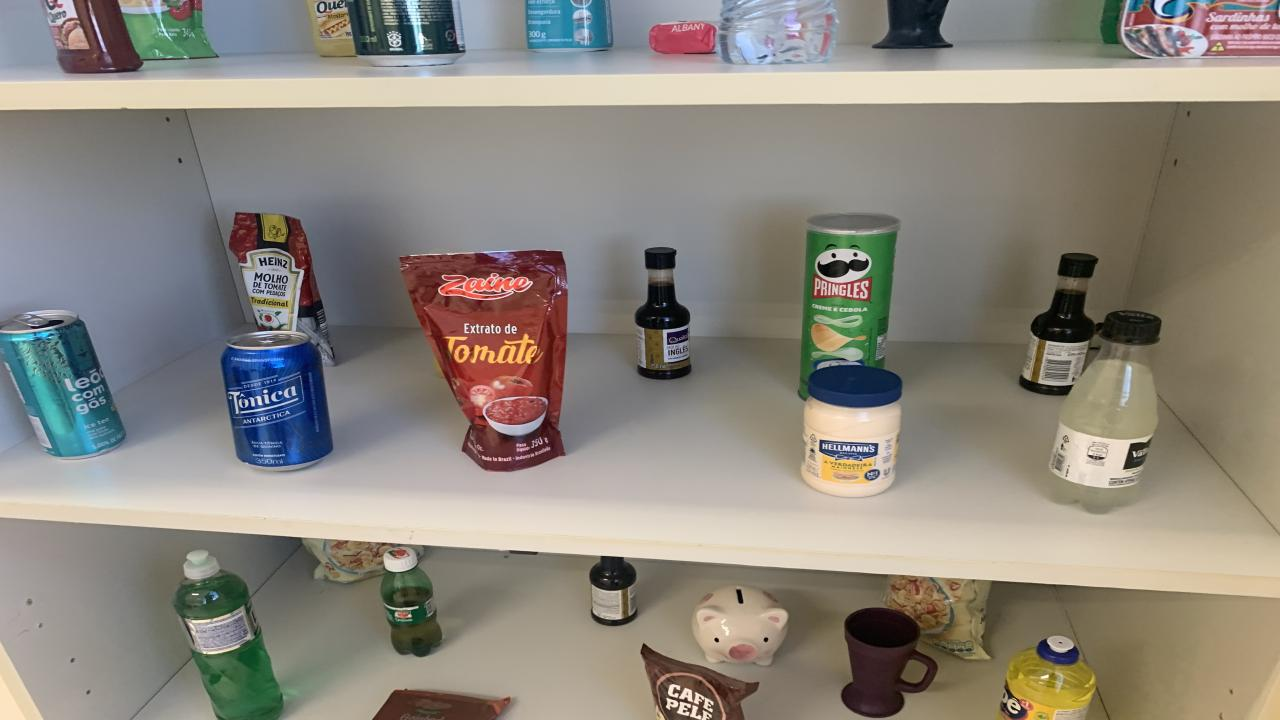Cleaner-Cleanup_Items: (525, 0, 612, 51)
Coffee-Pantry_Items: (640, 645, 758, 720)
Detergent-Cleanup_Items: (172, 549, 282, 720), (998, 636, 1095, 720)
English_Sauce-Pantry_Items: (1020, 253, 1098, 396), (635, 248, 690, 379), (590, 557, 638, 626)
Flakes-Snacks: (885, 576, 990, 660), (302, 538, 400, 583)
Guarana-Drinks: (380, 546, 442, 656)
Guarana_Can-Drinks: (348, 0, 465, 68)
Guava-Snacks: (375, 690, 510, 720)
Ketchup-Pantry_Items: (42, 0, 142, 73)
Mayonnaise-Pantry_Items: (802, 366, 902, 497)
Mustard-Pantry_Items: (308, 0, 355, 56)
Pig_Safe-Miscellaneous: (692, 585, 788, 666)
Pringles-Snacks: (798, 212, 900, 398)
Soap-Cleanup_Items: (650, 21, 718, 54)
Soda-Drinks: (1050, 309, 1160, 514)
Tea-Drinks: (0, 309, 125, 459)
Tomato_Sauce-Pantry_Items: (400, 251, 568, 471), (230, 212, 335, 366), (118, 0, 218, 60)
Tonic-Drinks: (220, 330, 332, 471)
Tuna_Can-Pantry_Items: (1118, 0, 1280, 58)
Water_Bottle-Drinks: (718, 0, 838, 64)
